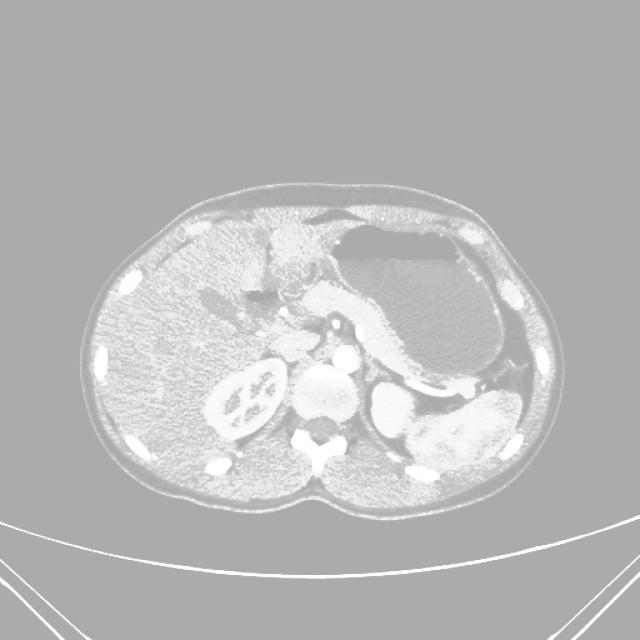NORMAL: (50, 166, 572, 522)
